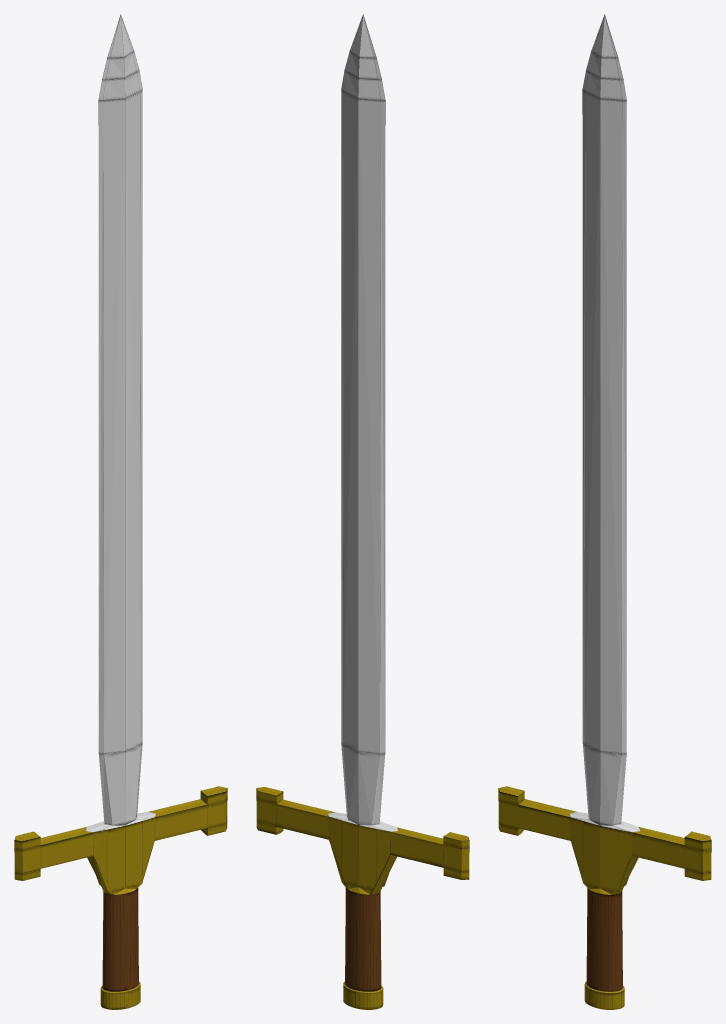
The model's file is lsword.dae.
The picture shows the model from 3 angles, left to right: view 1: azimuth 30°, elevation 25°; view 2: azimuth 150°, elevation 25°; view 3: azimuth 330°, elevation 25°; orthographic projection.
Parts seen in each view (by area): view 1: Long_Sword; view 2: Long_Sword; view 3: Long_Sword.
Boxes of the visible parts, left/top/right/bottom form: Long_Sword: left=14, top=14, right=227, bottom=1009; Long_Sword: left=256, top=14, right=469, bottom=1009; Long_Sword: left=498, top=14, right=711, bottom=1009.
Bounding box in the file's own units: 0.1852 × 0.0223 × 0.8217.
1 material, 1 textured.
